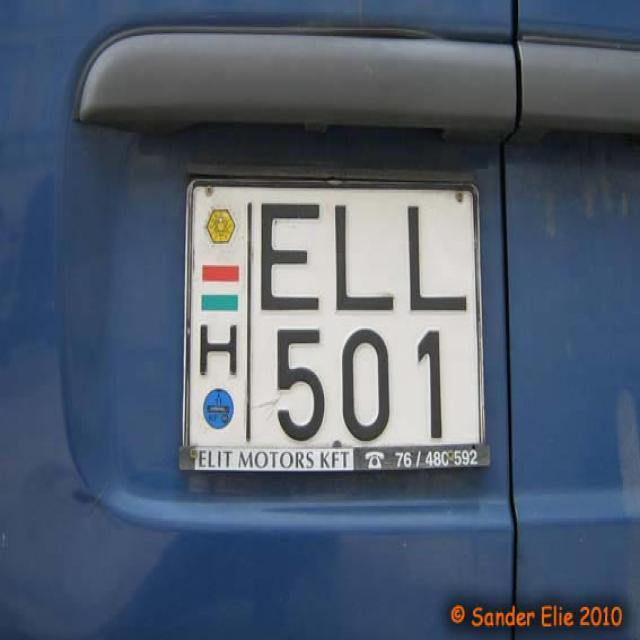licence: (187, 177, 488, 467)
